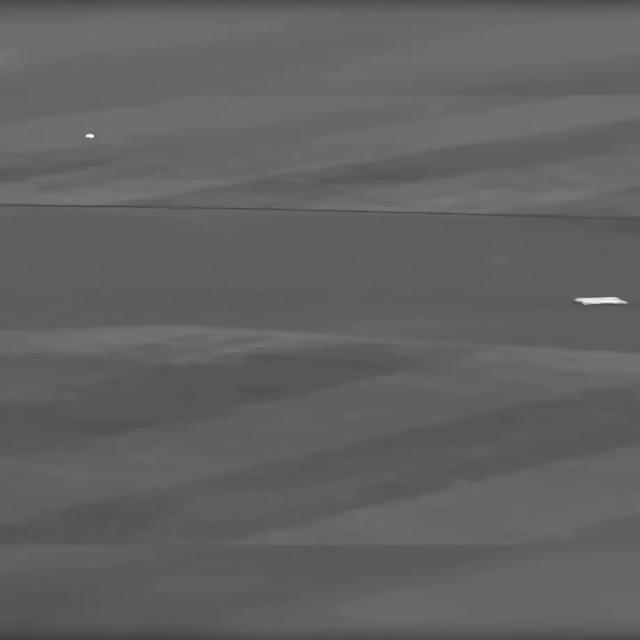base: (573, 296, 627, 306)
baseball: (85, 133, 95, 139)
